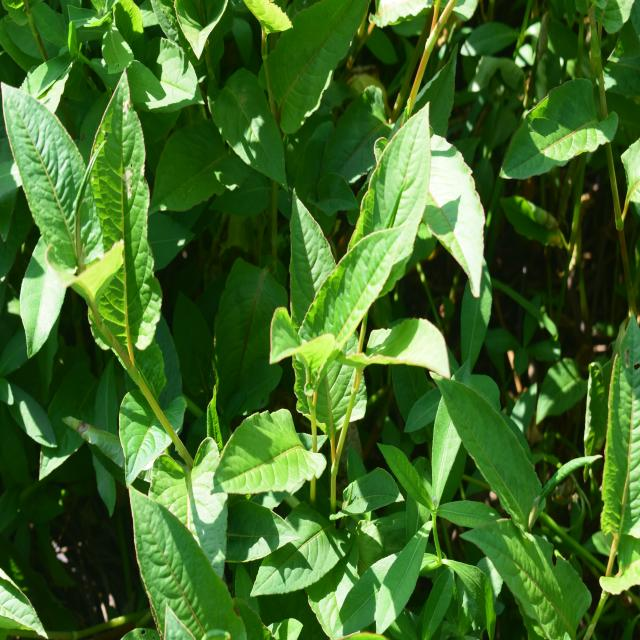Chinese_knotweed: (232, 92, 434, 464), (17, 77, 194, 400)
